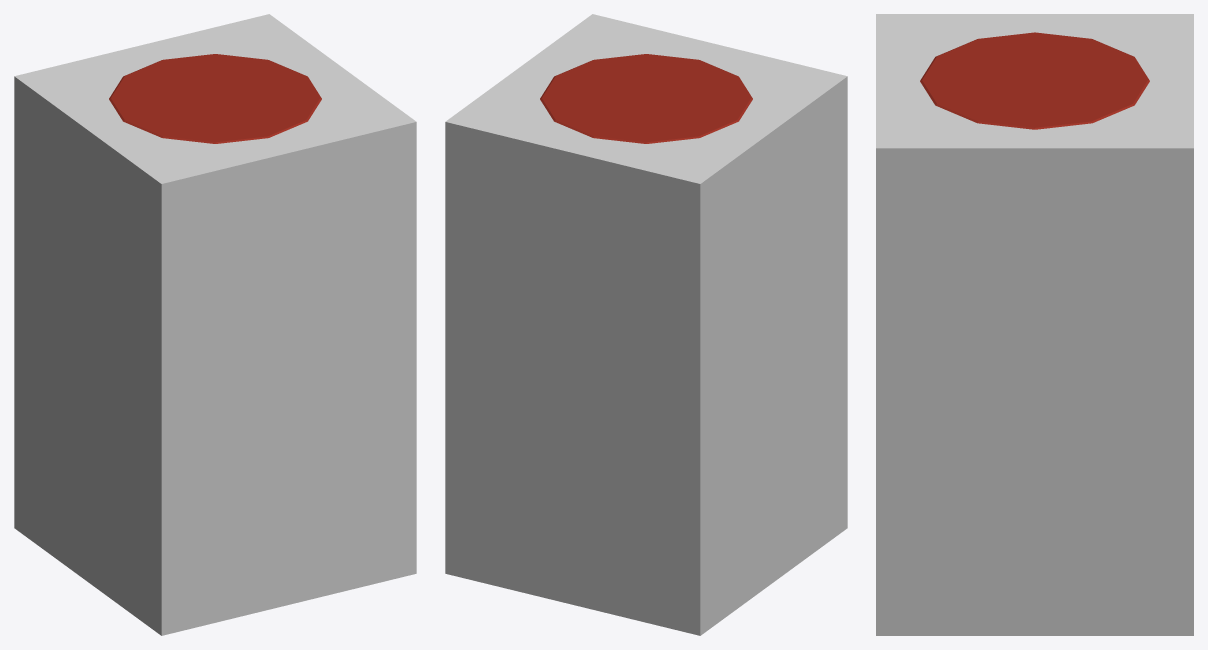
File: chair-C-01.glb
The picture shows the model from 3 angles, left to right: view 1: azimuth 30°, elevation 25°; view 2: azimuth 150°, elevation 25°; view 3: azimuth 270°, elevation 25°; orthographic projection. The views are drawn at different scales.
Parts seen in each view (by area): view 1: Chair C_col, Chair C; view 2: Chair C_col, Chair C; view 3: Chair C_col, Chair C.
Part boxes in pixels (box(x1,y1,x2,y2)): Chair C_col: box(14, 14, 416, 635); Chair C: box(109, 54, 321, 143); Chair C_col: box(445, 14, 847, 635); Chair C: box(540, 54, 752, 143); Chair C_col: box(876, 14, 1193, 635); Chair C: box(920, 32, 1149, 129).
Bounding box in the file's own units: 1.84 × 3.11 × 1.84.
